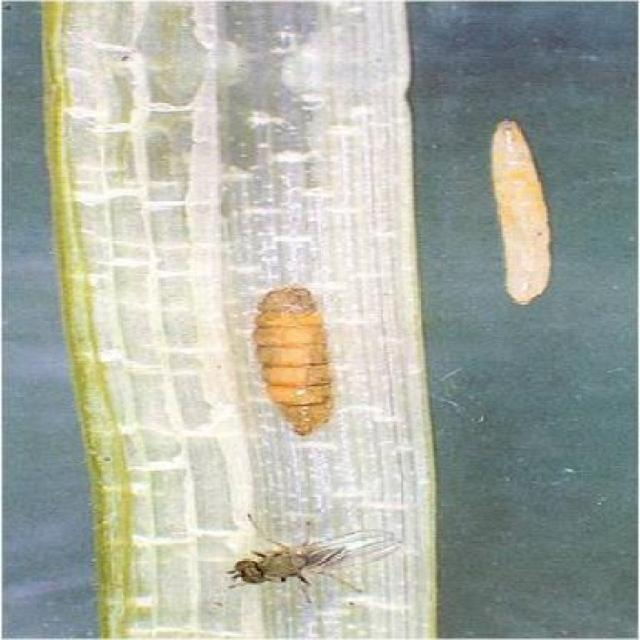whorl-maggot: (465, 113, 573, 313), (239, 276, 347, 446)
